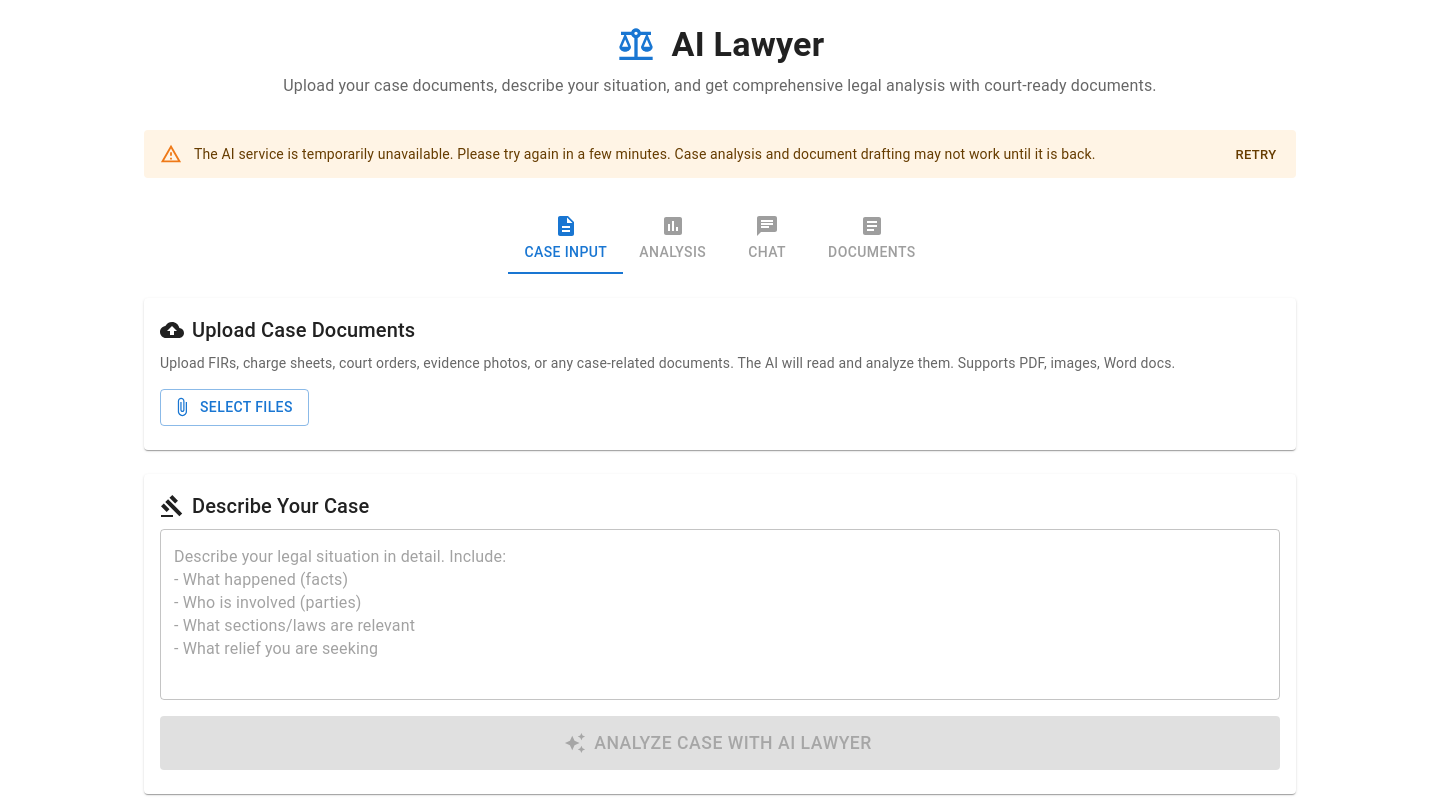
Scenario: AILawyer — agent-service outage handling › retries when the user clicks Retry, and clears the notice on success
Expected: the message is shown, [144,130,1296,178]
Click the button "Retry". click: (1256, 155)
box: [1224,140,1288,171]
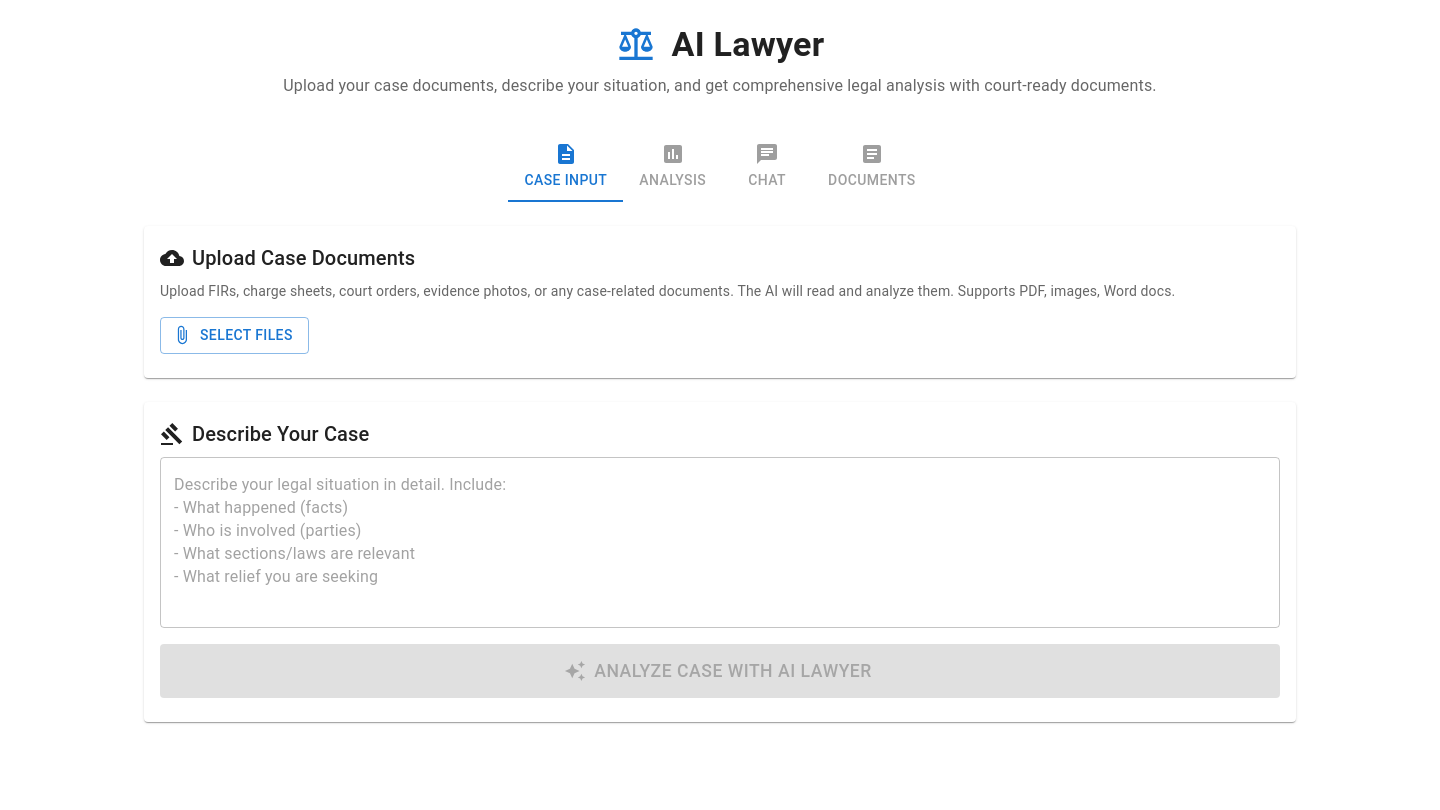
Result: the message is gone
